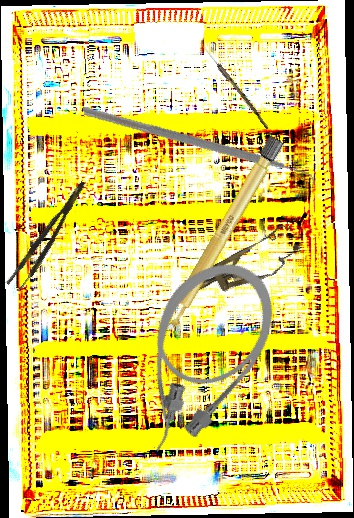Cannula: (97, 241, 297, 472)
Chopper: (82, 51, 319, 251)
Scalpel Handle: (158, 134, 285, 336)
Speculum: (185, 220, 306, 309)
Surgical Spoon: (198, 41, 271, 130)
Tissue Forceps: (5, 179, 95, 294)
